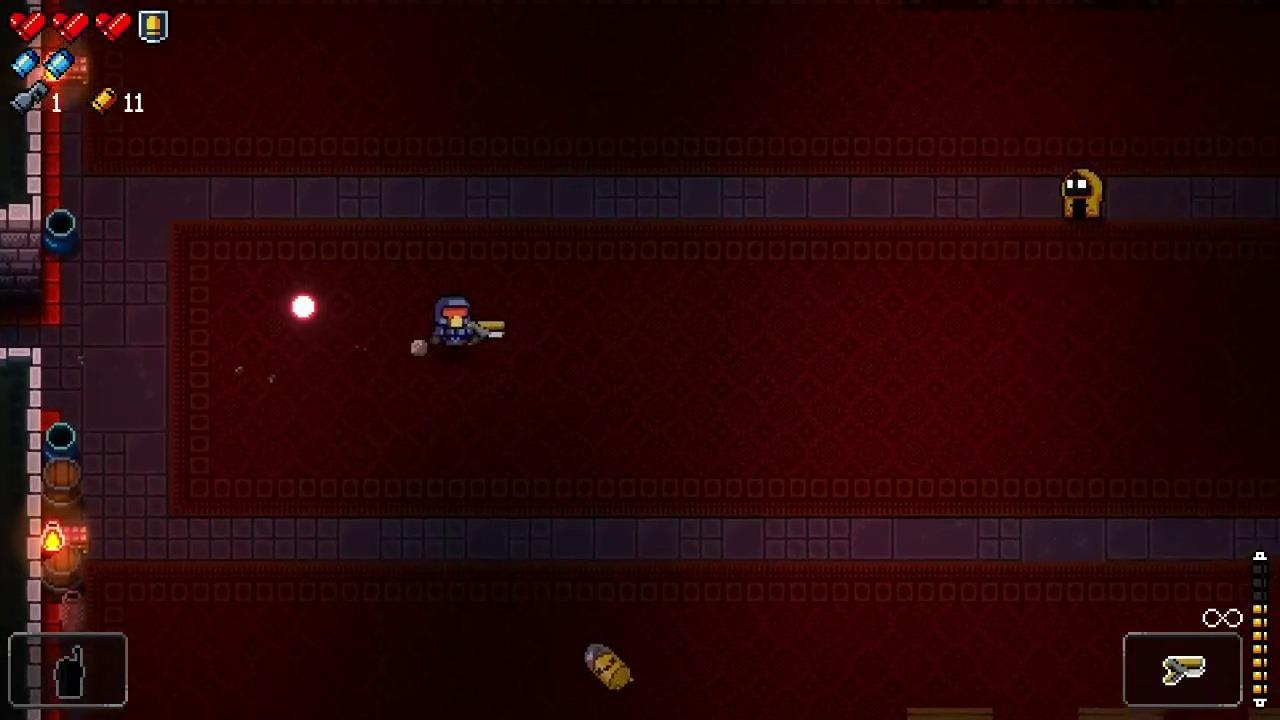apprentice_gunjurer: (1060, 166, 1106, 221)
bullet: (291, 293, 317, 320)
dead_bullet_kin: (586, 643, 633, 691)
player: (434, 297, 470, 346)
